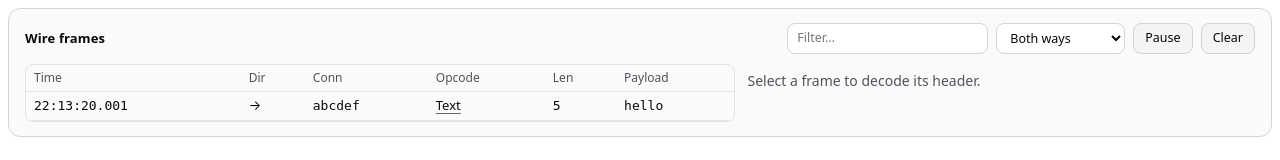
WireFrameInspector › pauses polling and asks the server to clear
The image size is (1280, 160).
Expected: the text "hello" is shown, [616,92,734,120]
What coordinates should you click on to do the following:
click the button "Pause"
I would click on:
 (1163, 38)
Its box is [1133,23,1193,54].
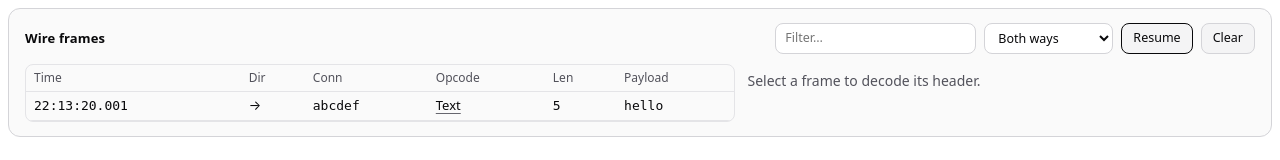
What coordinates should you click on to do the following:
click the button "Clear"
I would click on:
 (1228, 38)
Its box is [1201,23,1255,54].
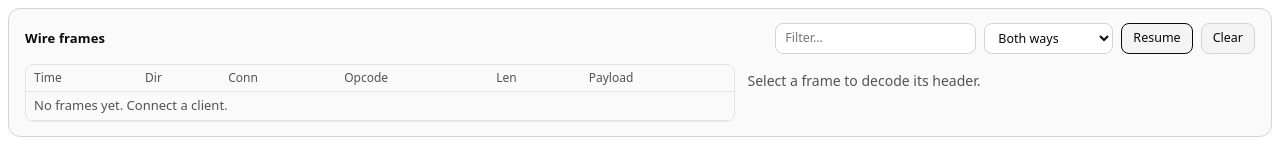
Expected: the text "No frames yet. Connect a client." is shown, [26,92,734,120]
